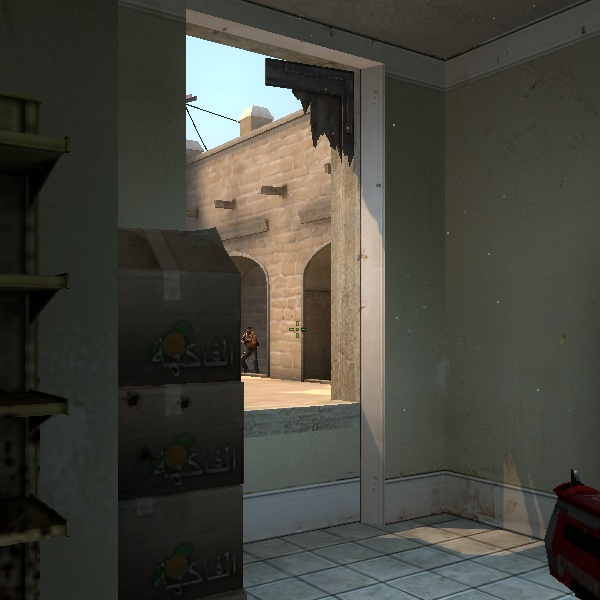t_body: (236, 323, 263, 373)
